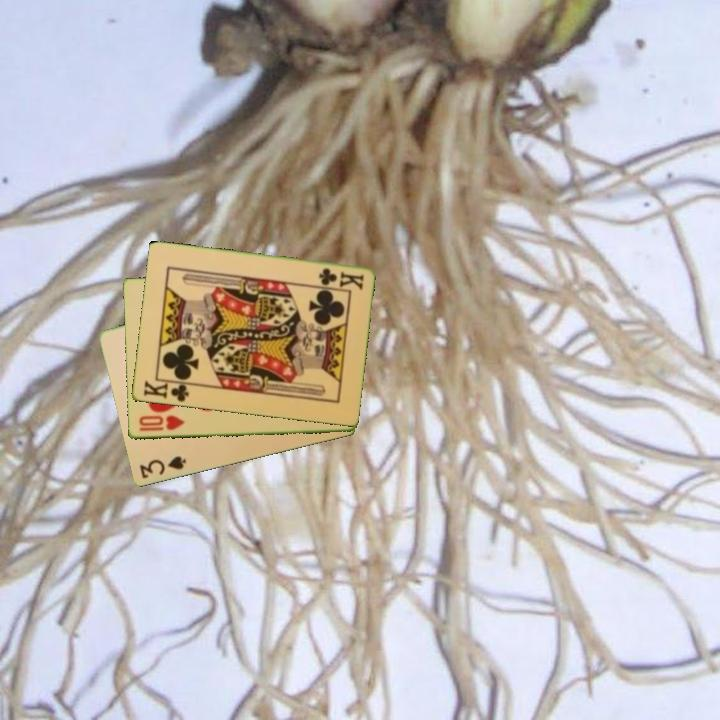10h: (135, 412, 187, 434)
3s: (136, 453, 189, 482)
Kc: (140, 377, 195, 405), (315, 265, 366, 292)
